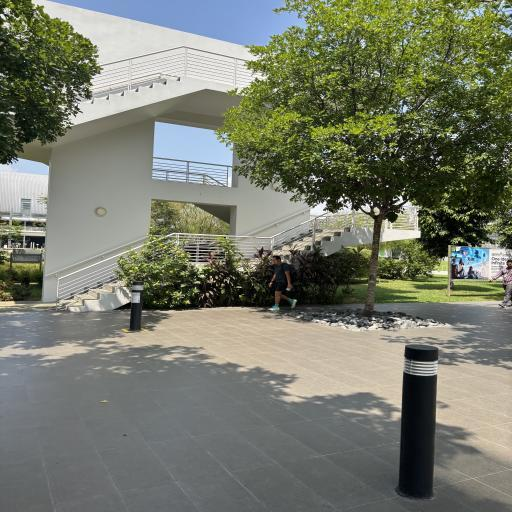person_left: (263, 248, 300, 318)
